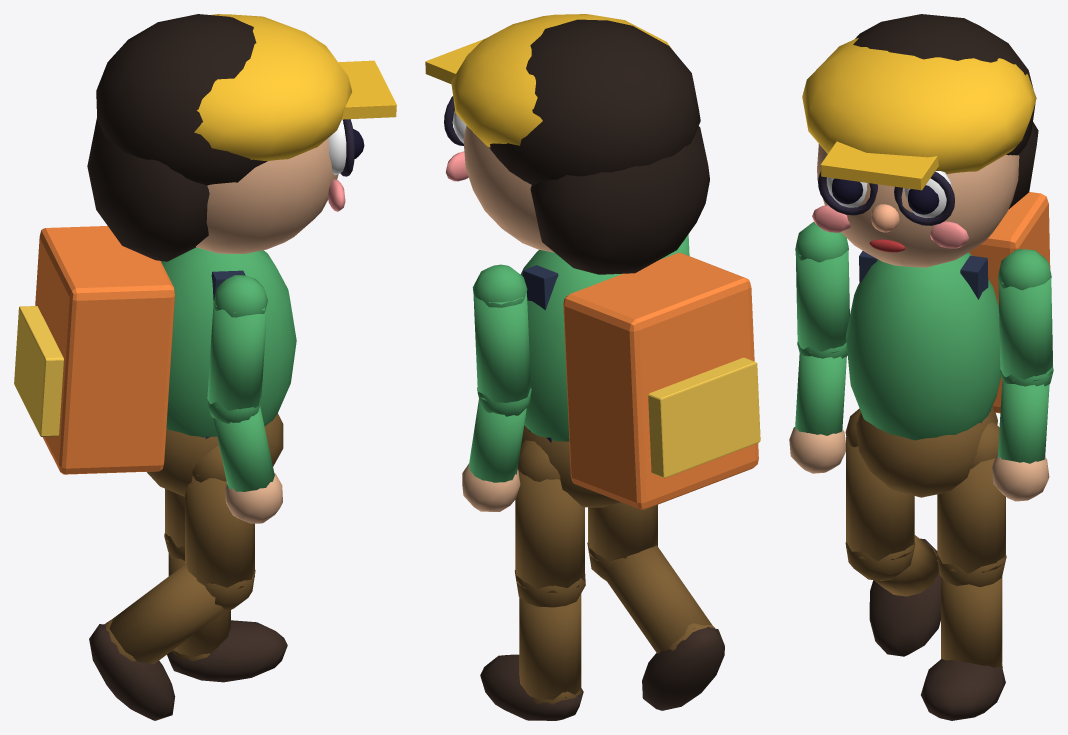
The model's file is hrdina_2_chuze.glb.
3 renders of one model, left to right at view 1: azimuth 30°, elevation 25°; view 2: azimuth 150°, elevation 25°; view 3: azimuth 270°, elevation 25°, orthographic.
Parts seen in each view (by area): view 1: Cube, Sphere.011, Sphere.013, Sphere, Sphere.012, Sphere.002, Cylinder.005, Cylinder.004, Cylinder, Cube.001, Sphere.031, Sphere.026 (+11 smaller); view 2: Cube, Sphere.011, Sphere.012, Cube.001, Sphere.013, Cylinder.006, Sphere, Cylinder.005, Cylinder.007, Cylinder.002, Sphere.002, Sphere.026 (+11 smaller); view 3: Sphere, Sphere.013, Sphere.002, Sphere.001, Cylinder.006, Sphere.011, Cylinder.004, Cylinder.007, Cylinder.002, Cylinder, Sphere.026, Sphere.031 (+24 smaller).
Boxes of the visible parts, x1,y1,x2,y2 form: Cube: [35, 226, 174, 474]; Sphere.011: [96, 14, 267, 185]; Sphere.013: [194, 14, 352, 160]; Sphere: [161, 247, 296, 437]; Sphere.012: [87, 118, 209, 261]; Sphere.002: [196, 138, 338, 253]; Cylinder.005: [107, 564, 224, 663]; Cylinder.004: [185, 475, 254, 590]; Cylinder: [207, 300, 267, 410]; Cube.001: [14, 306, 63, 436]; Sphere.031: [167, 620, 287, 682]; Sphere.026: [89, 624, 175, 720]; Cube: [563, 252, 758, 509]; Sphere.011: [489, 19, 700, 184]; Sphere.012: [530, 126, 709, 274]; Cube.001: [648, 357, 760, 478]; Sphere.013: [451, 14, 672, 147]; Cylinder.006: [515, 470, 584, 592]; Sphere: [520, 250, 622, 441]; Cylinder.005: [605, 545, 711, 653]; Cylinder.007: [519, 594, 581, 699]; Cylinder.002: [473, 293, 530, 402]; Sphere.002: [464, 125, 554, 252]; Sphere.026: [642, 627, 724, 710]; Sphere: [846, 252, 1000, 440]; Sphere.013: [802, 38, 1036, 174]; Sphere.002: [817, 144, 1019, 267]; Sphere.001: [856, 406, 997, 497]; Cylinder.006: [937, 458, 1005, 573]; Sphere.011: [853, 14, 1035, 155]; Cylinder.004: [846, 437, 914, 560]; Cylinder.007: [941, 577, 1002, 667]; Cylinder.002: [998, 273, 1052, 381]; Cylinder: [795, 246, 849, 353]; Sphere.026: [869, 538, 940, 656]; Sphere.031: [921, 659, 1005, 720].
Size of the model in its own units: 0.6563 by 1.27 by 0.4564.
